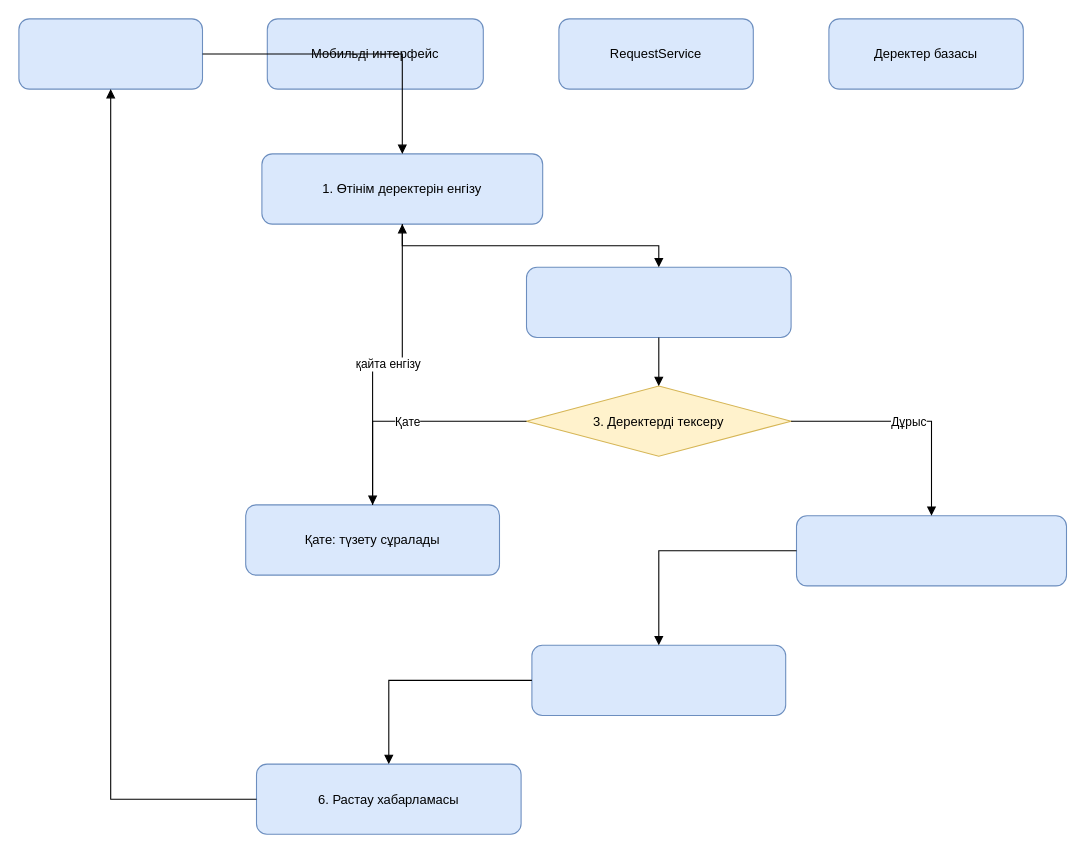
Image size: 1085x853. Some labels were removed from this diagram. The shapes that lost their labels are listed below. From the top down, each one's box as (x1, y1, x2, y2) in pixels, then its label:
(18, 18, 202, 89): Клиент
(525, 266, 791, 338): 2. createRequest(data)
(795, 515, 1066, 586): 4. INSERT repair_request
(531, 644, 786, 716): 5. Өтінім ID қайтару
